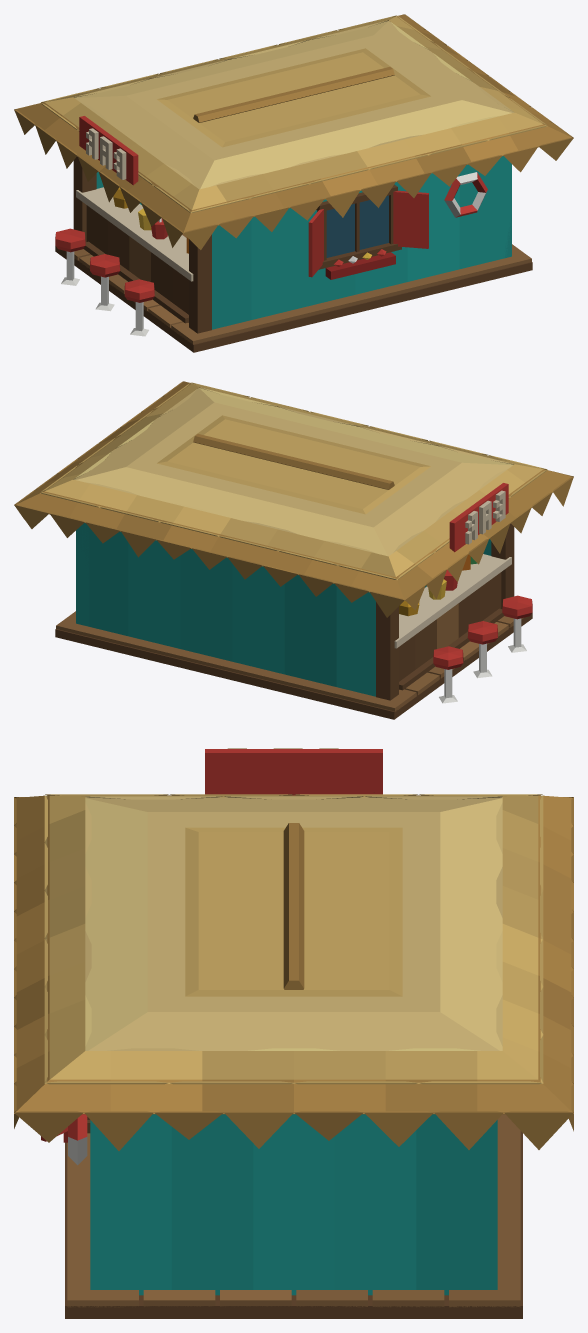
The model's file is Decor_BeachBar_BarHut.fbx.
3 renders of one model, top to bottom at view 1: azimuth 30°, elevation 25°; view 2: azimuth 150°, elevation 25°; view 3: azimuth 270°, elevation 25°, orthographic. The views are drawn at different scales.
Parts seen in each view (by area): view 1: BarHut_Body; view 2: BarHut_Body; view 3: BarHut_Body.
Boxes of the visible parts, x1,y1,x2,y2 form: BarHut_Body: (14, 14, 573, 352); BarHut_Body: (14, 381, 573, 719); BarHut_Body: (14, 748, 573, 1318).
Bounding box in the file's own units: 30 × 12.2 × 22.
